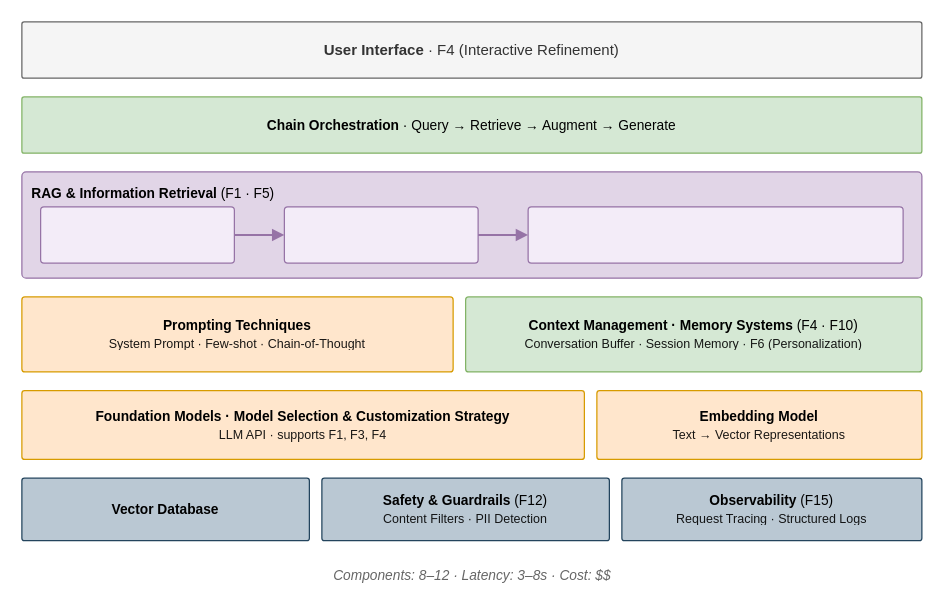
Image size: 944x613. Some labels were removed from this diagram. The shapes that lost their labels are listed below. From the top down, each one's box as (x1, y1, x2, y2) in pixels, then its label:
(39, 206, 234, 263): Query Embedding
(283, 206, 478, 263): Vector Search
(527, 206, 903, 263): Context Assembly Re-ranking · Citation (F5)
